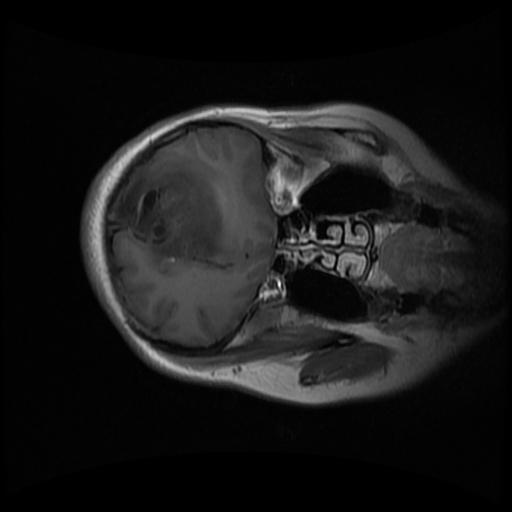glioma: (110, 168, 220, 262)
